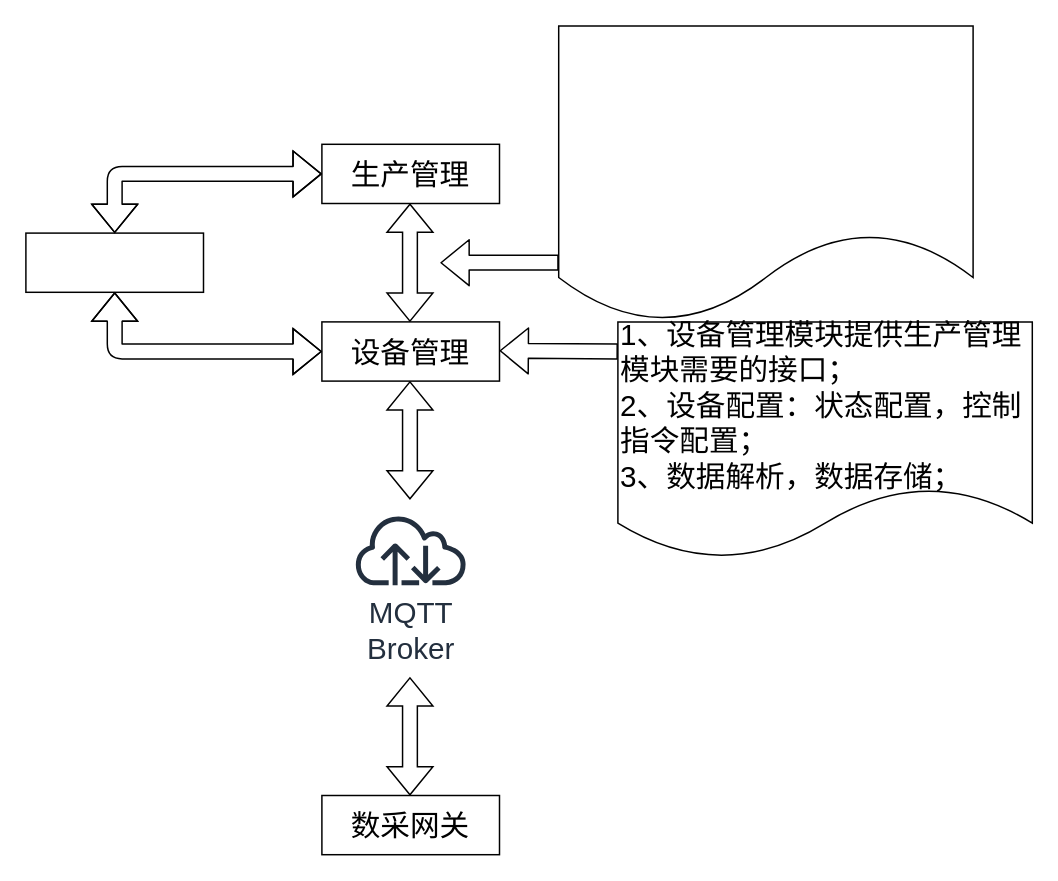
This 1058x881 diagram has some shape labels left out. Here are the shapes that lost their labels. From the top down, the centre of each, then its label:
the point at 765,173: 生产管理模块通过设备管理模块提供的接口函数完成以下功能： 1、查询设备状态 2、发送设备控制指令
the point at 114,262: database
